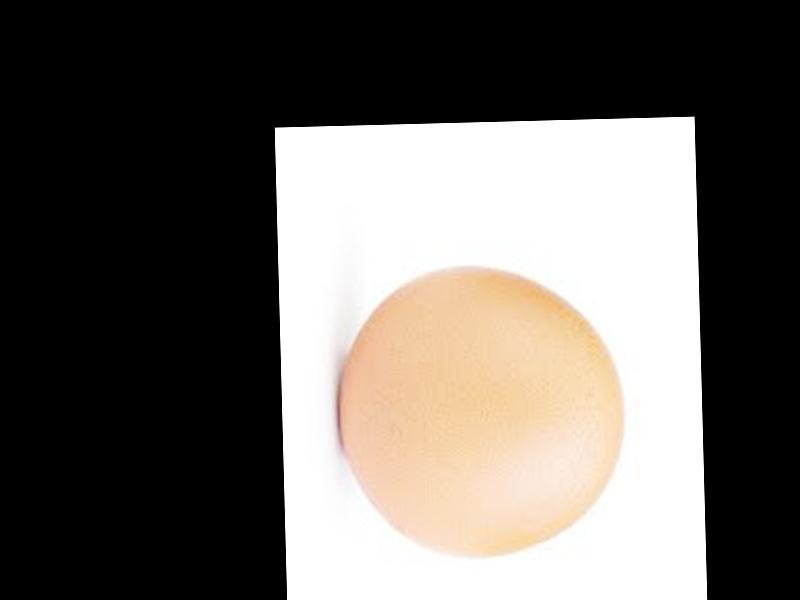Eggs: (337, 263, 623, 559)
